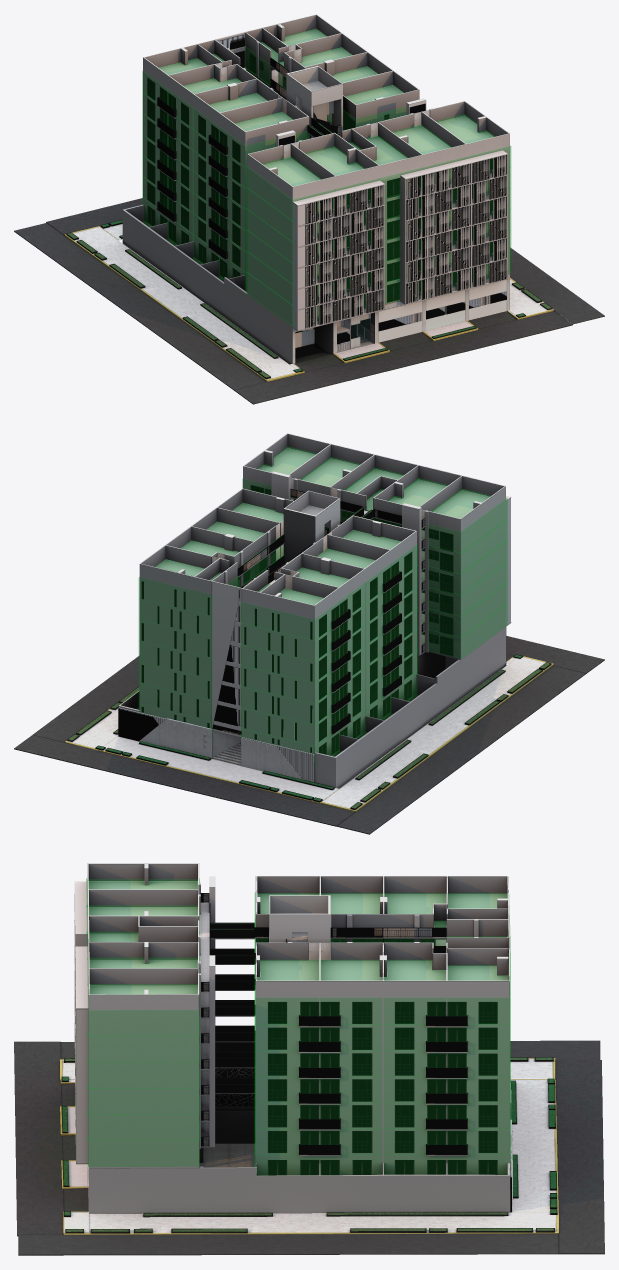
File: ExteriorSanAntonioBaked_old.dae
The picture shows the model from 3 angles, top to bottom: view 1: azimuth 30°, elevation 25°; view 2: azimuth 150°, elevation 25°; view 3: azimuth 270°, elevation 25°; orthographic projection. The views are drawn at different scales.
Visible parts, largest first — view 1: rejaBlanca6, edificioC, edificioB, rejasPuerta, exterior1.2, exterior1, edificioA, contornoEdif1, pasillos, acabados1, murosVigas, exterior1.1 (+18 smaller); view 2: edificioB, edificioC, edificioA, rejasPuerta, exterior1.2, exterior1, contornoEdif1, murosVigas, exterior1.1, acabados1, rejaBlanca6, SAB_0A_N006_P_0601 (+29 smaller); view 3: edificioA, edificioC, rejasPuerta, exterior1, exterior1.1, contornoEdif1, pasillos, edificioB, murosVigas, SAB_0A_N006_P_0605, exterior1.2, SAB_0A_N005_P_0505 (+41 smaller).
Part boxes in pixels (bbox=[...]): rejaBlanca6: bbox=[217, 34, 506, 351]; edificioC: bbox=[247, 101, 509, 327]; edificioB: bbox=[143, 39, 309, 278]; rejasPuerta: bbox=[147, 44, 493, 315]; exterior1.2: bbox=[14, 223, 300, 390]; exterior1: bbox=[46, 198, 572, 404]; edificioA: bbox=[245, 14, 419, 130]; contornoEdif1: bbox=[122, 204, 374, 364]; pasillos: bbox=[157, 65, 507, 333]; acabados1: bbox=[292, 274, 509, 363]; murosVigas: bbox=[215, 32, 432, 337]; exterior1.1: bbox=[510, 247, 604, 324]; edificioB: bbox=[242, 515, 416, 782]; edificioC: bbox=[243, 433, 505, 659]; edificioA: bbox=[139, 488, 293, 728]; rejasPuerta: bbox=[141, 477, 453, 755]; exterior1.2: bbox=[321, 656, 585, 834]; exterior1: bbox=[14, 636, 604, 826]; contornoEdif1: bbox=[118, 627, 506, 788]; murosVigas: bbox=[203, 471, 428, 748]; exterior1.1: bbox=[33, 655, 139, 750]; acabados1: bbox=[138, 656, 458, 779]; rejaBlanca6: bbox=[118, 589, 314, 782]; SAB_0A_N006_P_0601: bbox=[422, 489, 507, 552]; edificioA: bbox=[255, 937, 509, 1175]; edificioC: bbox=[87, 863, 199, 1168]; rejasPuerta: bbox=[198, 885, 497, 1175]; exterior1: bbox=[14, 1041, 604, 1254]; exterior1.1: bbox=[18, 1212, 558, 1255]; contornoEdif1: bbox=[89, 1042, 510, 1213]; pasillos: bbox=[74, 881, 467, 1164]; edificioB: bbox=[255, 876, 509, 945]; murosVigas: bbox=[199, 876, 512, 1148]; SAB_0A_N006_P_0605: bbox=[88, 984, 199, 1036]; exterior1.2: bbox=[60, 1040, 600, 1079]; SAB_0A_N005_P_0505: bbox=[88, 1036, 199, 1062].
Size of what is drawn, in the model's own units: 48.52 by 29.13 by 56.49.
